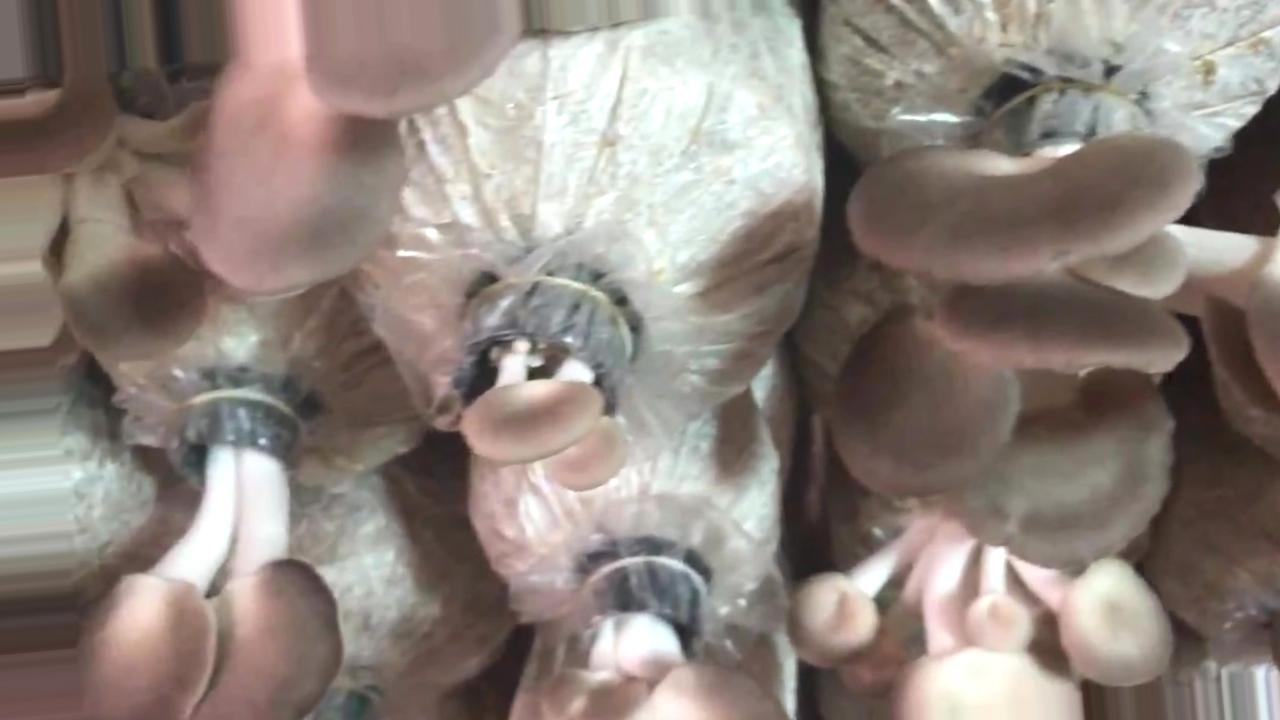nam: (836, 89, 1280, 562), (55, 1, 516, 357), (80, 387, 338, 720), (791, 516, 1173, 720), (546, 557, 788, 720), (460, 282, 630, 491)
